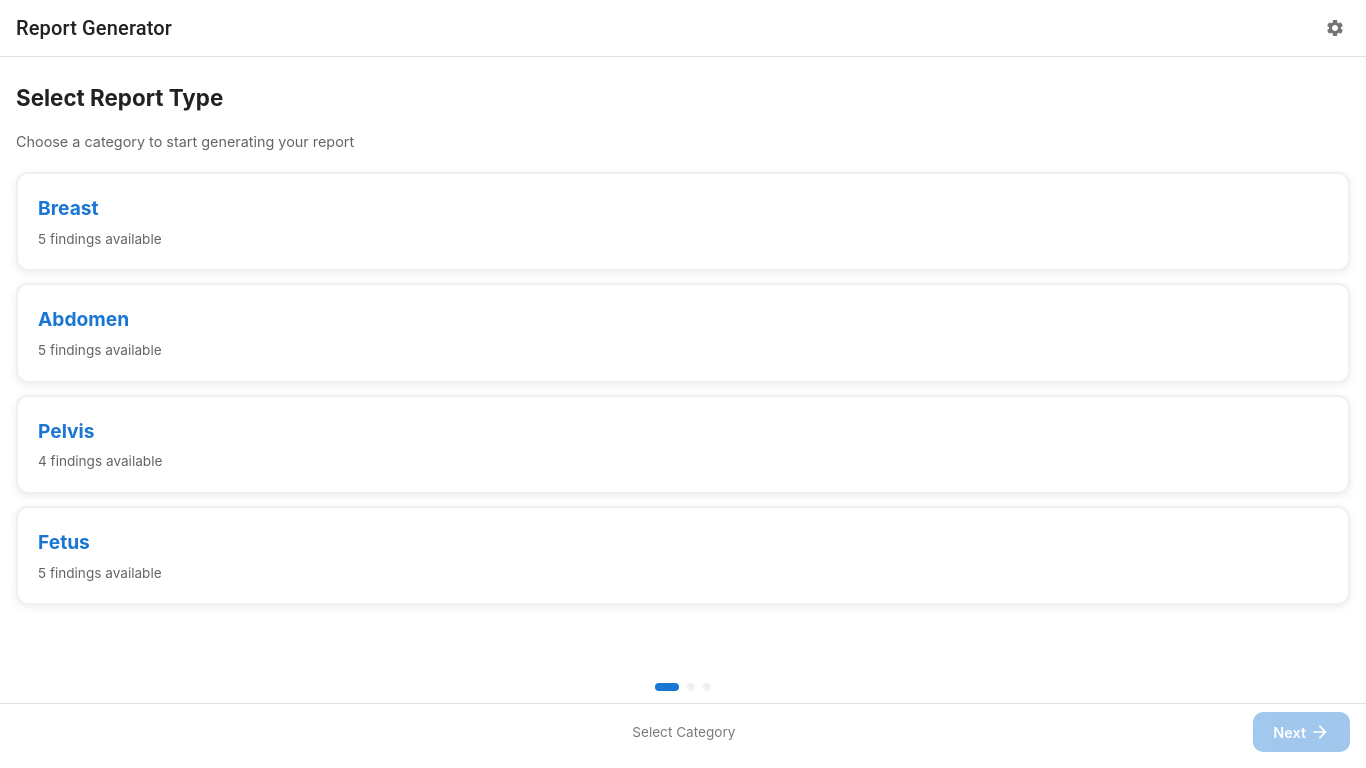
it: MobileReportFlow › Add Finding appends a new empty finding row
Step 1. Click the heading "Breast" → (68, 208), box 38,196 -> 99,220
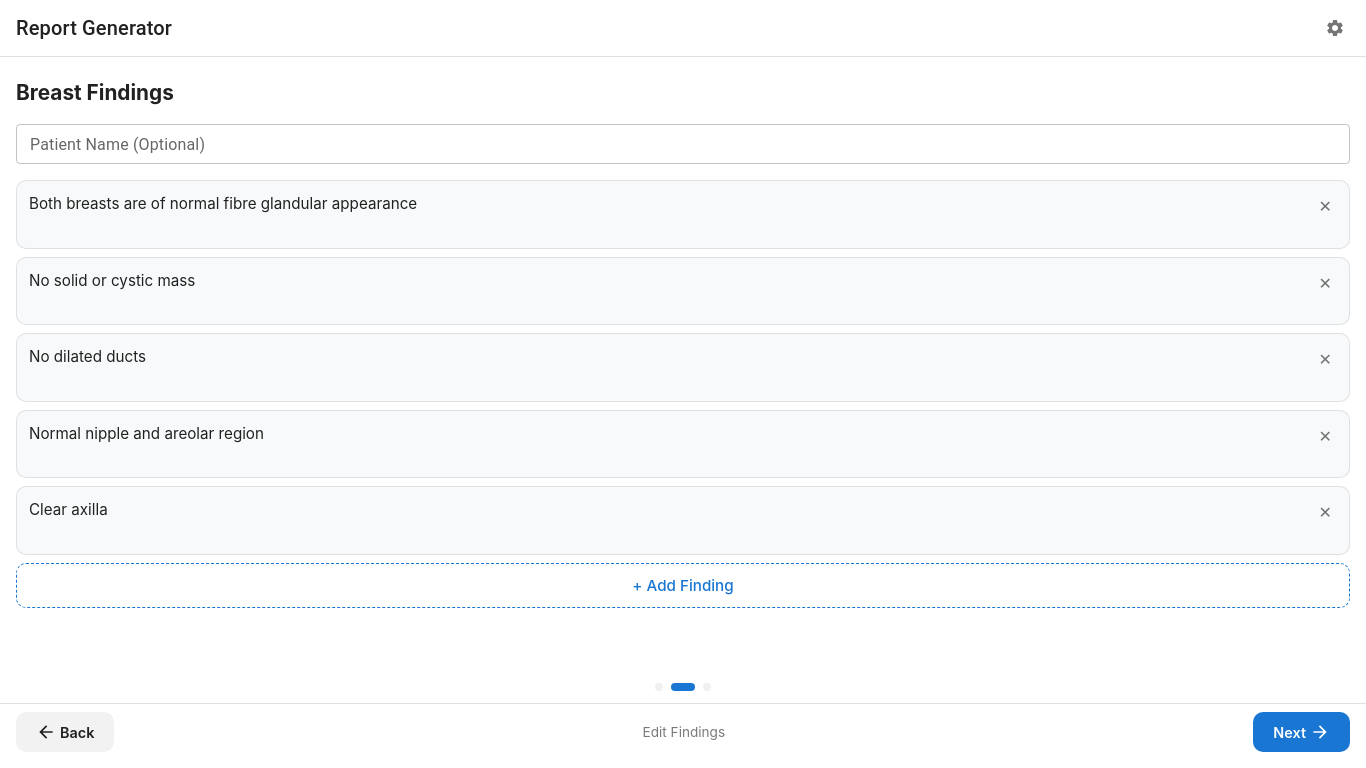
Step 2. Click the button "+ Add Finding" → (683, 585), box 16,563 -> 1350,608
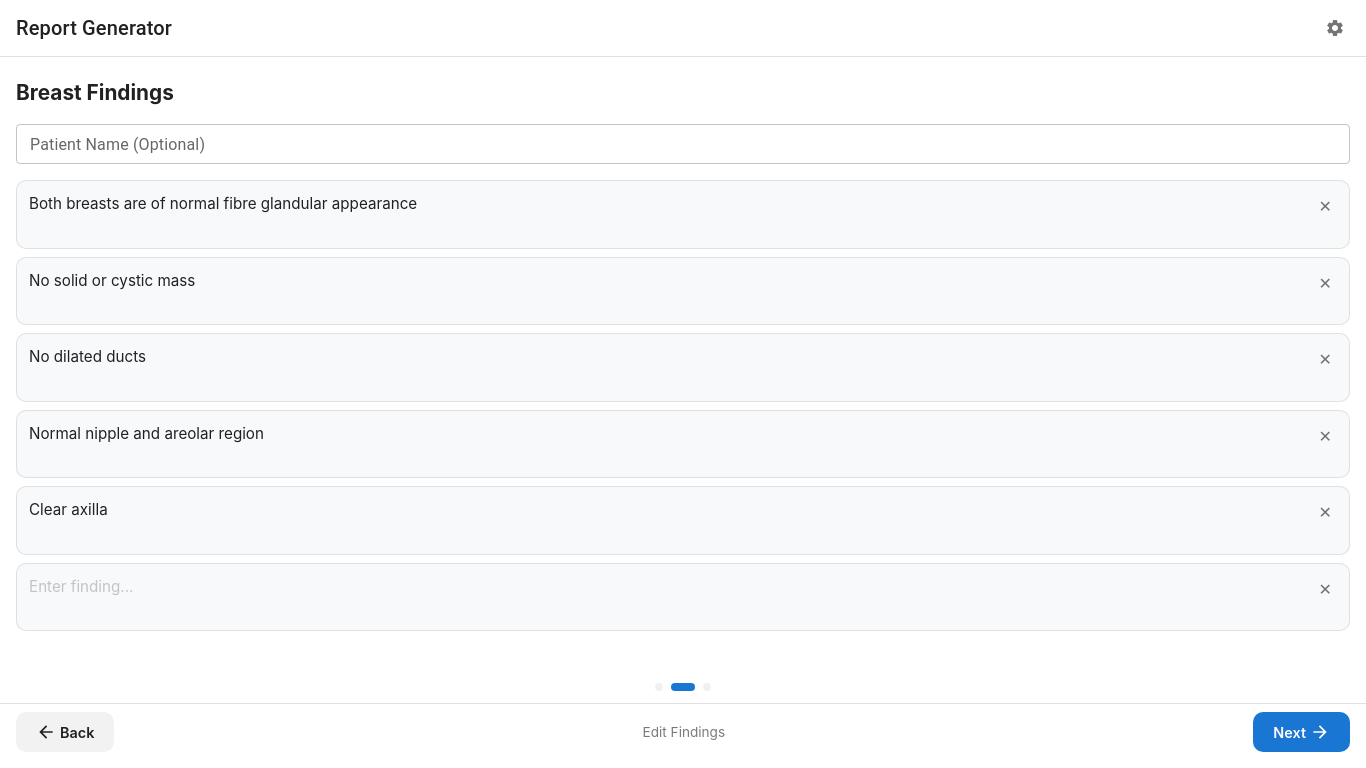
Check: the number of text boxes with placeholder "Enter finding..." is 6, box 29,191 -> 1306,238; 29,268 -> 1306,314; 29,344 -> 1306,391; 29,421 -> 1306,467; 29,497 -> 1306,544; 29,574 -> 1306,620
Check: the text box with placeholder "Enter finding..." is empty, box 29,574 -> 1306,620
